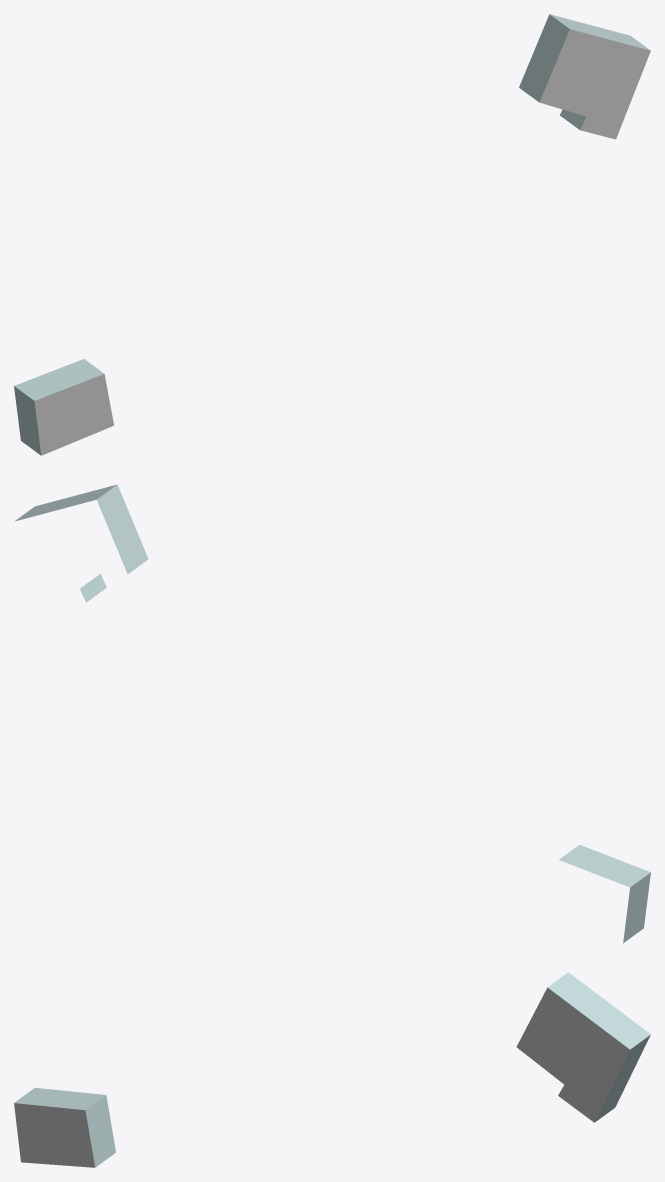
3 renders of one model, top to bottom at view 1: azimuth 30°, elevation 25°; view 2: azimuth 150°, elevation 25°; view 3: azimuth 330°, elevation 25°, orthographic.
Visible parts, largest first — view 1: 0_1_2_1_3_0_1_1_3; view 2: 0_1_2_1_3_0_1_1_3; view 3: 0_1_2_1_3_0_1_1_3.
Part boxes in pixels (x1,y1,x2,y2): 0_1_2_1_3_0_1_1_3: (14,14,650,455); 0_1_2_1_3_0_1_1_3: (14,484,650,943); 0_1_2_1_3_0_1_1_3: (14,972,650,1167).
Bounding box in the file's own units: 51.64 × 24.54 × 3.88.
